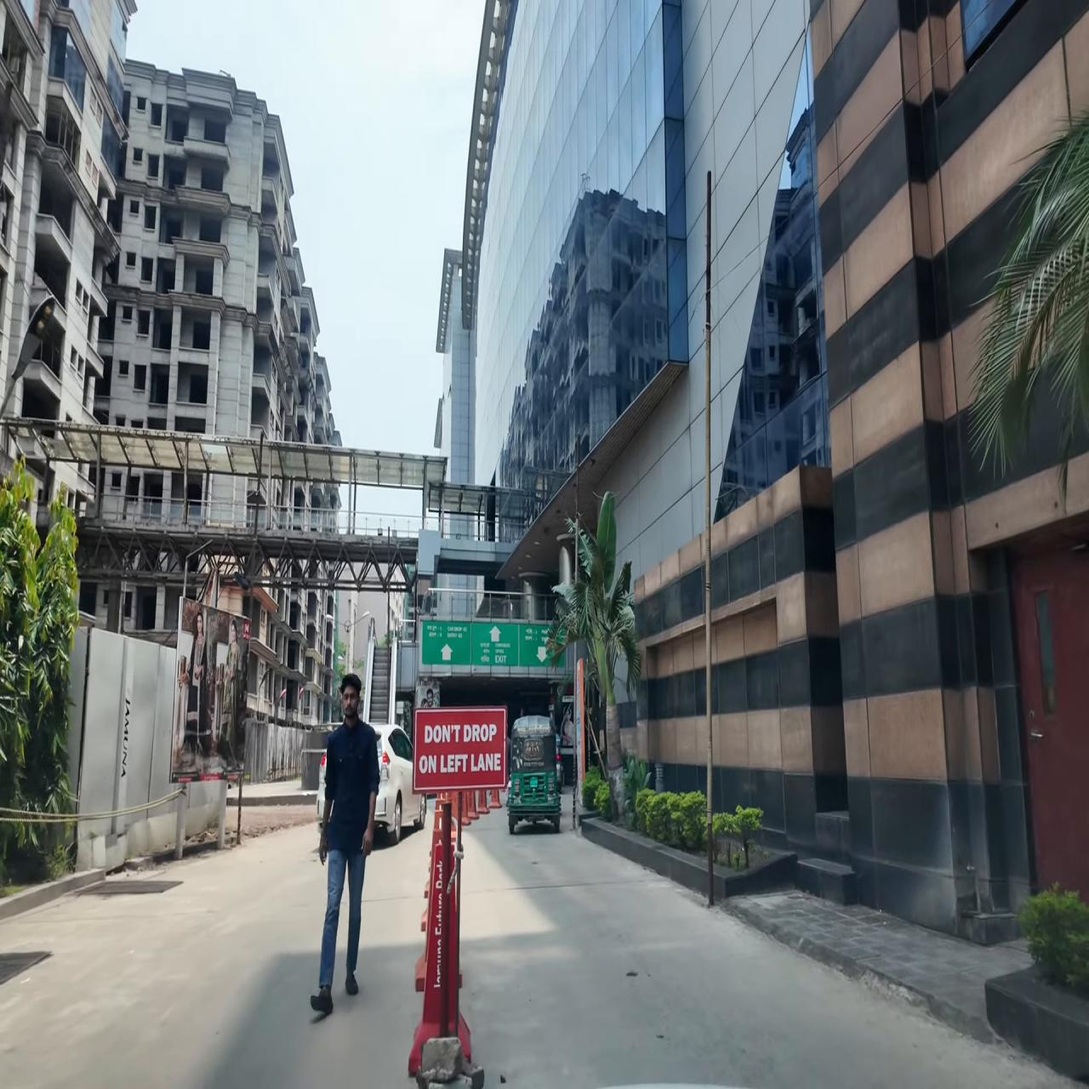person: (308, 674, 380, 1014)
